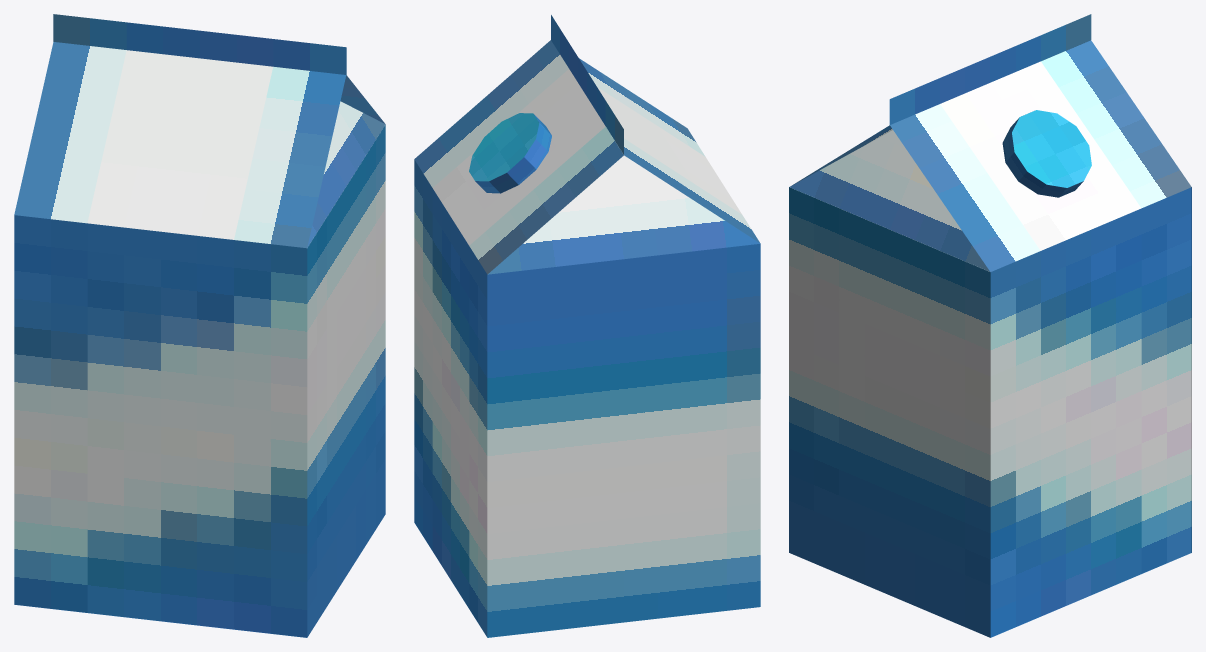
File: milk-optimized.glb
The picture shows the model from 3 angles, left to right: view 1: azimuth 30°, elevation 25°; view 2: azimuth 150°, elevation 25°; view 3: azimuth 270°, elevation 25°; orthographic projection. The views are drawn at different scales.
Visible parts, largest first — view 1: cuboid; view 2: cuboid, cylinder; view 3: cuboid, cylinder.
Part boxes in pixels (x1,y1,x2,y2): cuboid: (14, 14, 385, 637); cuboid: (414, 15, 760, 637); cylinder: (469, 113, 551, 193); cuboid: (789, 14, 1191, 637); cylinder: (1002, 110, 1091, 197).
Size of the model in its own units: 0.5745 by 0.7812 by 0.5745.
1 material, 1 textured.
